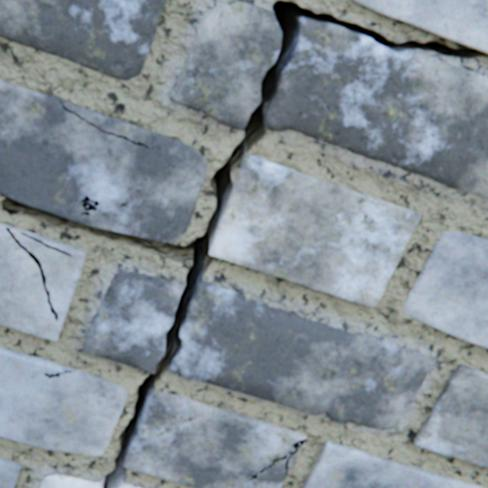brick: (0, 80, 206, 242), (209, 154, 419, 307), (124, 390, 305, 487), (0, 346, 127, 454), (0, 0, 166, 81), (0, 222, 87, 341), (403, 231, 487, 348), (301, 440, 487, 487), (413, 364, 487, 466), (349, 0, 487, 53), (0, 457, 22, 487)
broken_brick: (265, 18, 487, 199), (169, 280, 429, 428), (169, 2, 281, 130), (83, 272, 184, 372), (41, 474, 101, 487), (116, 481, 143, 487)
crack: (0, 0, 487, 487), (7, 227, 58, 320), (60, 101, 149, 149), (249, 438, 305, 478), (19, 231, 73, 256), (81, 196, 99, 210), (44, 368, 71, 377), (82, 212, 90, 215)
